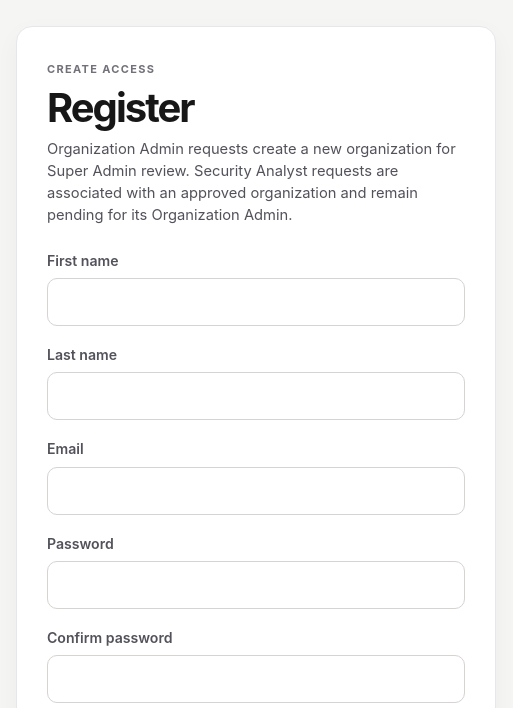
Test case: Authentication, Access Control and IAM Views › rejects registration passwords shorter than eight characters
In the field labelled "First name": (256, 302) [47, 278, 465, 326], type "Taylor"
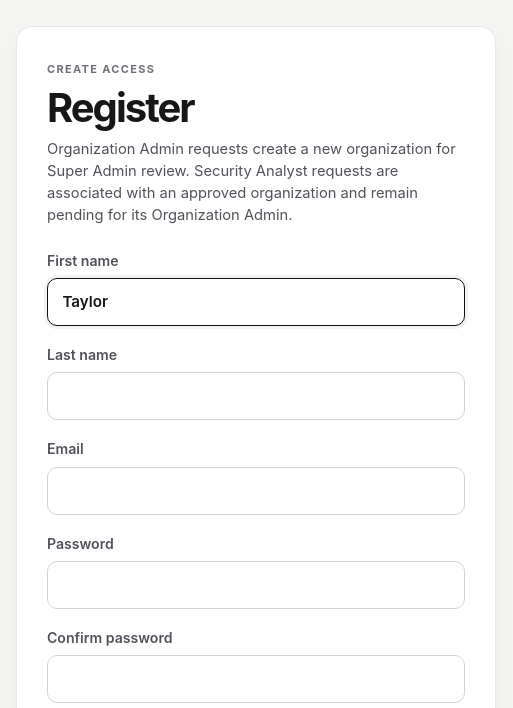
In the field labelled "Last name": (256, 396) [47, 372, 465, 420], type "Security"
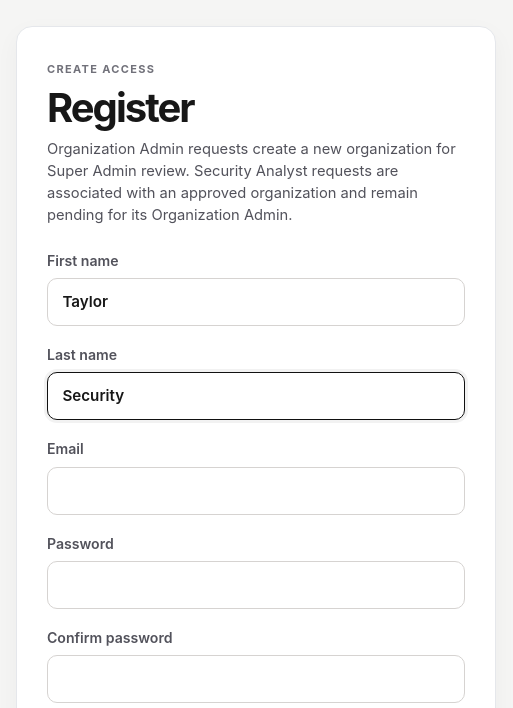
In the field labelled "Email": (256, 491) [47, 467, 465, 515], type "analyst@example.com"
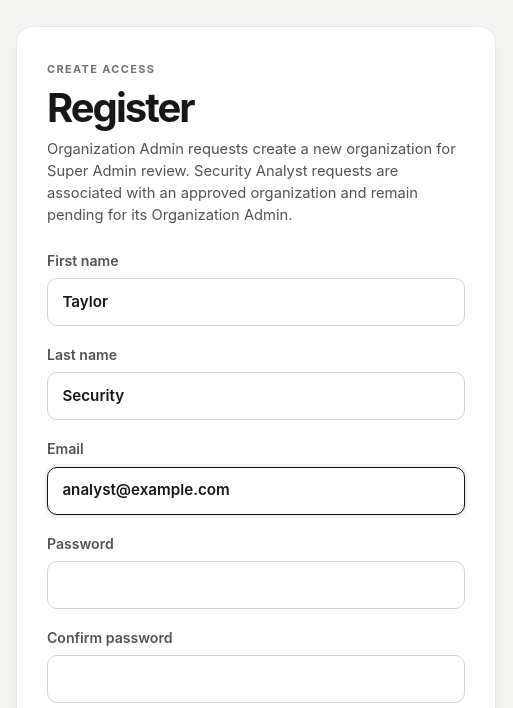
In the password field labelled "Password": (256, 585) [47, 561, 465, 609], type "Pass123"
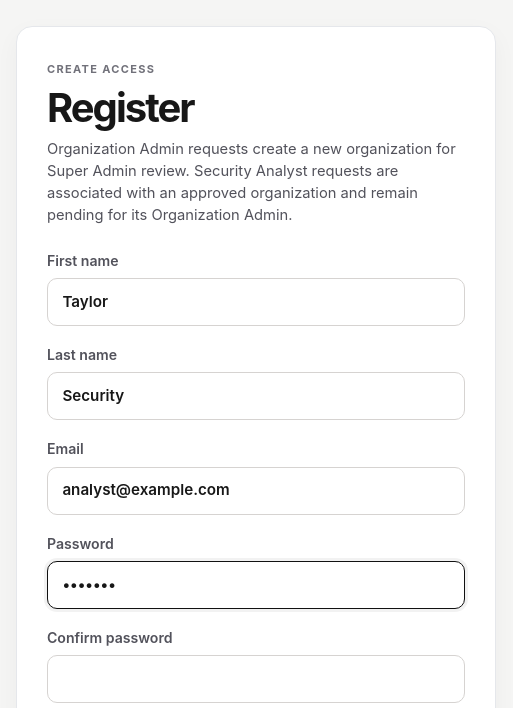
In the password field labelled "Confirm password": (256, 679) [47, 655, 465, 703], type "Pass123"
(page scrolled)
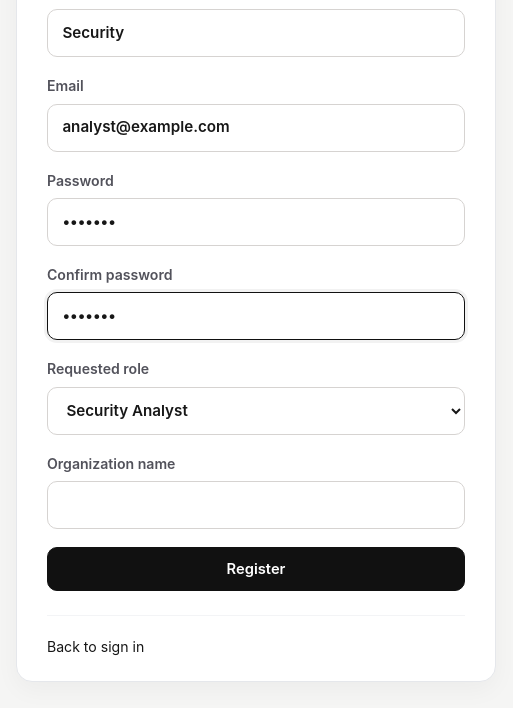
Click the button "Register": click(256, 569) [47, 547, 465, 591]
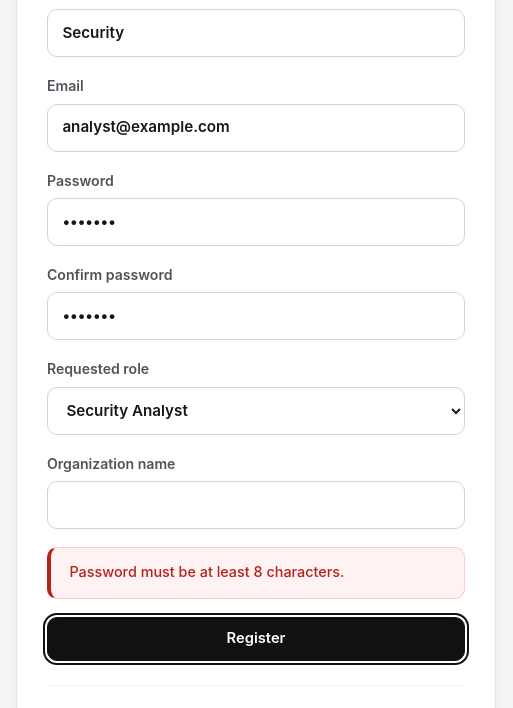
Check: the text "Password must be at least 8 characters." is shown, box [47, 547, 465, 599]
